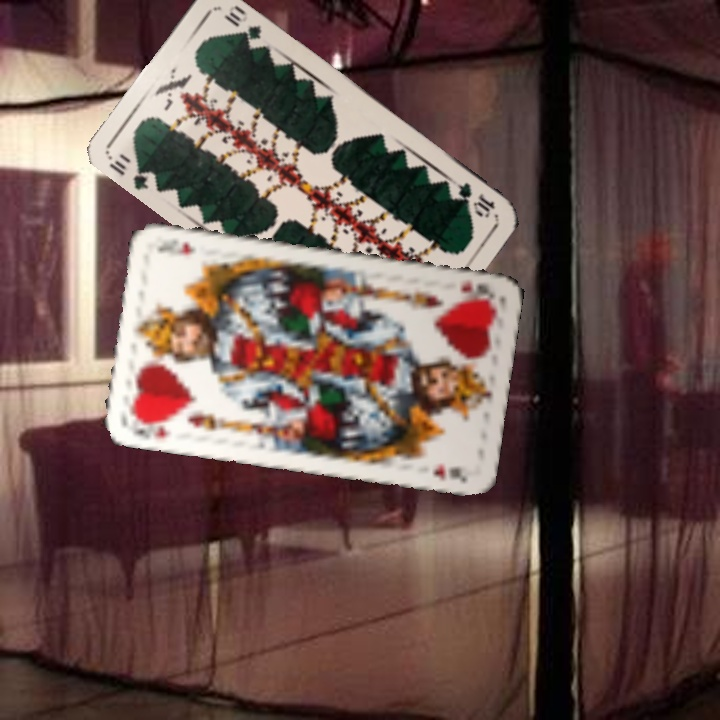G10: (104, 151, 160, 193), (448, 176, 498, 220)
HK: (124, 412, 176, 442), (457, 277, 492, 303)
